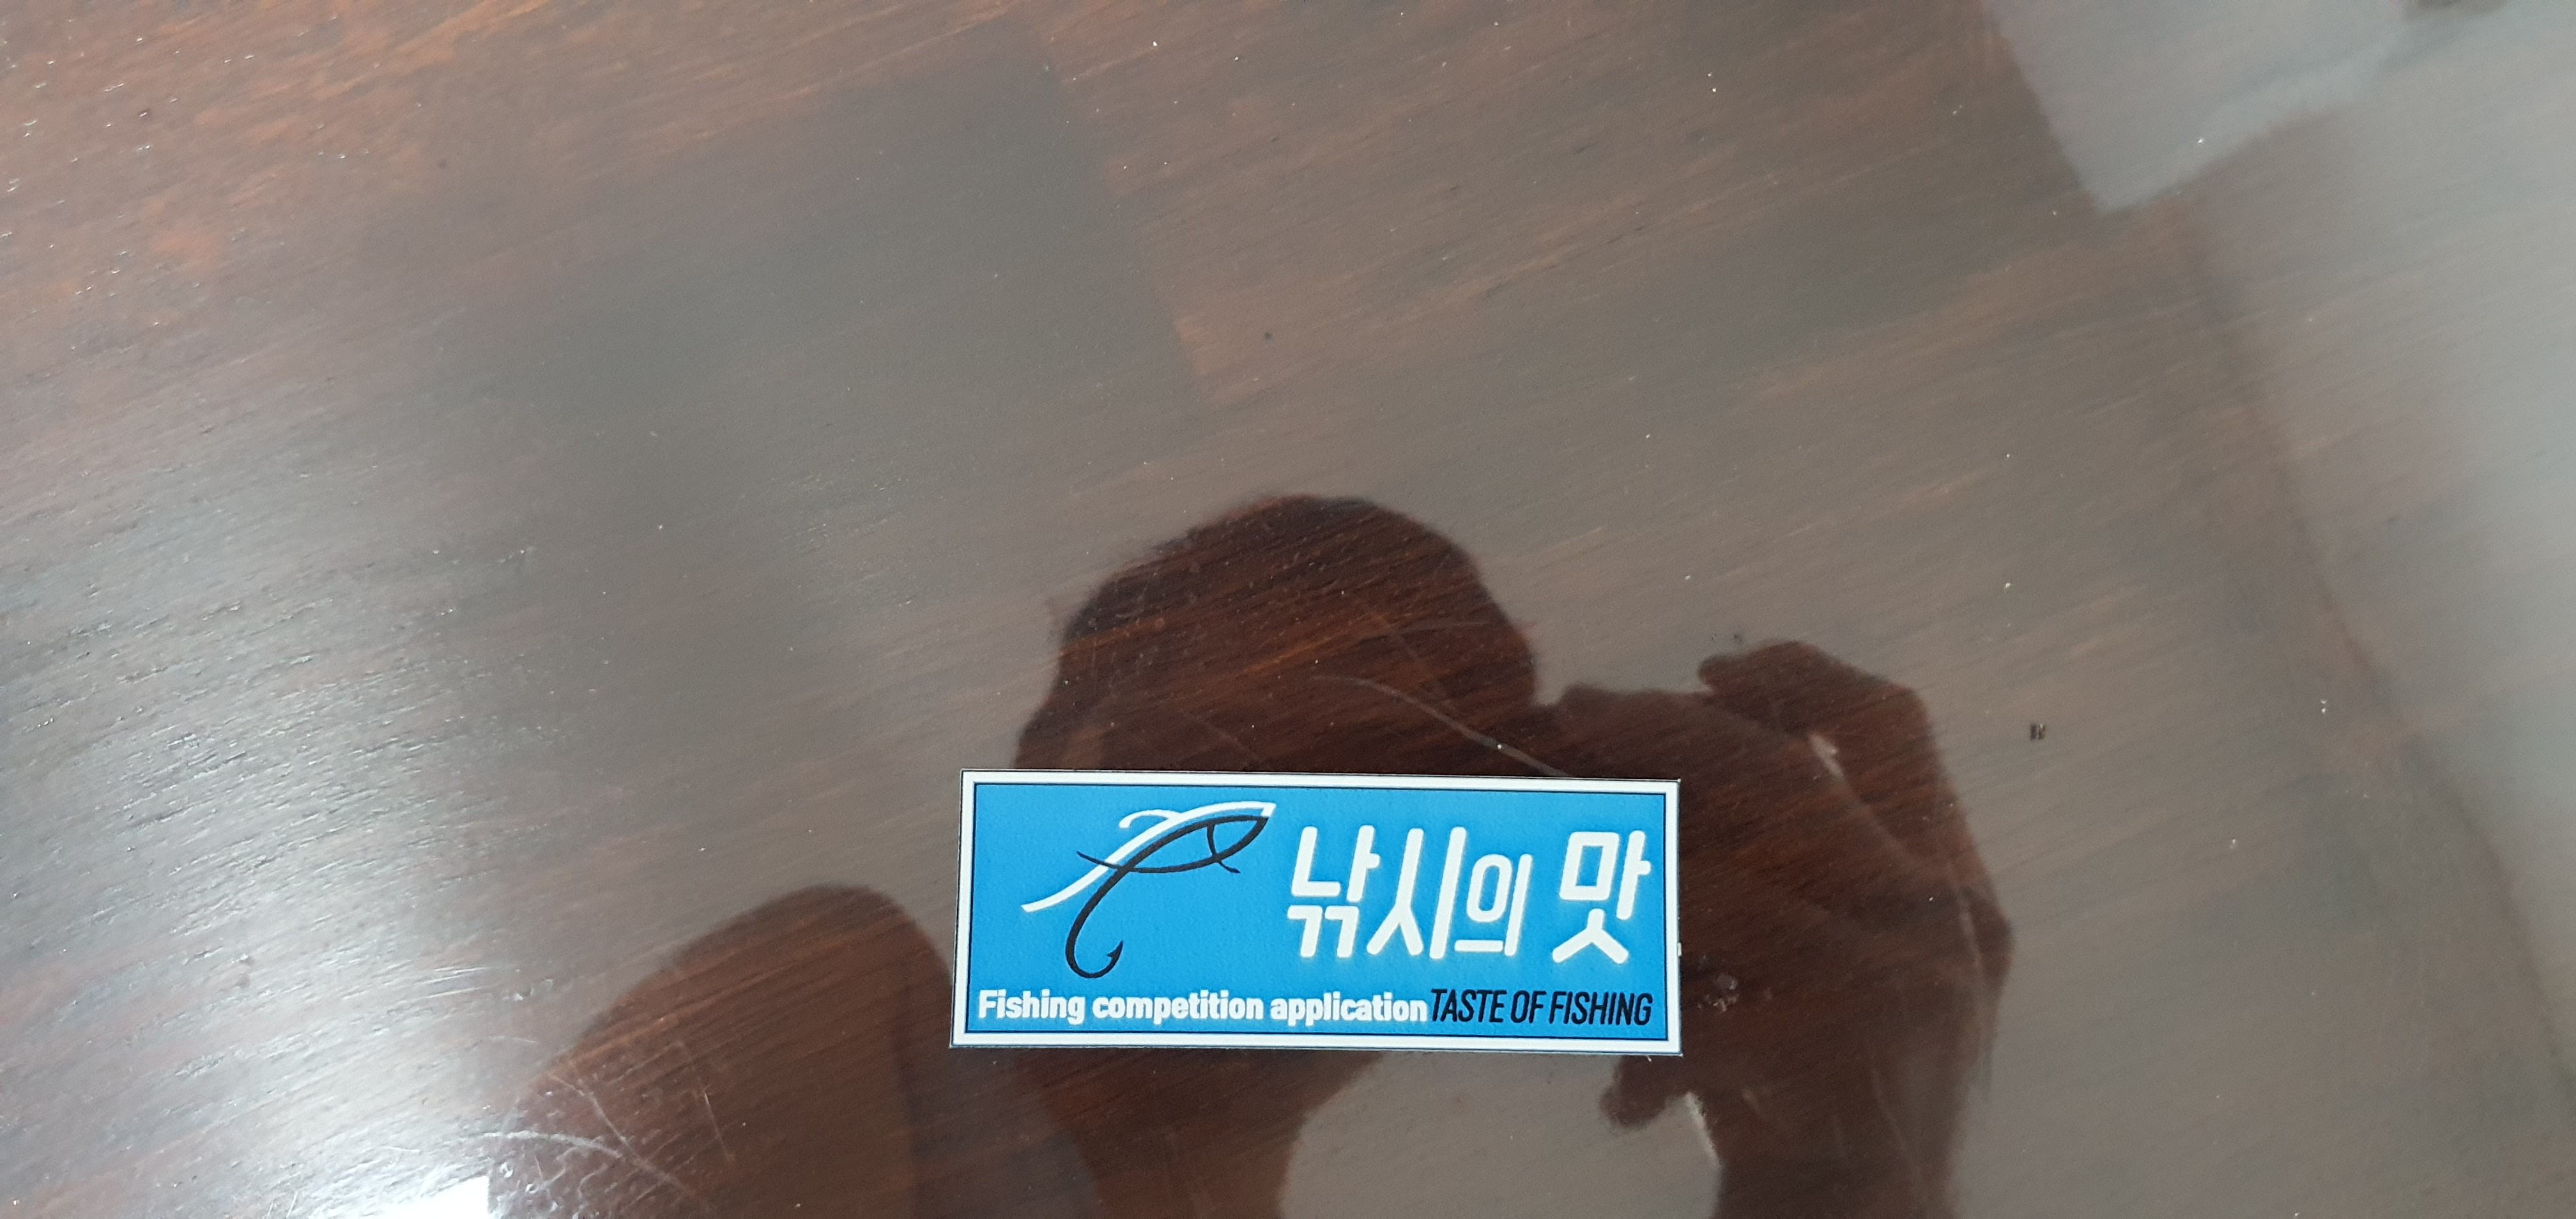tag: (956, 774, 1681, 1051)
